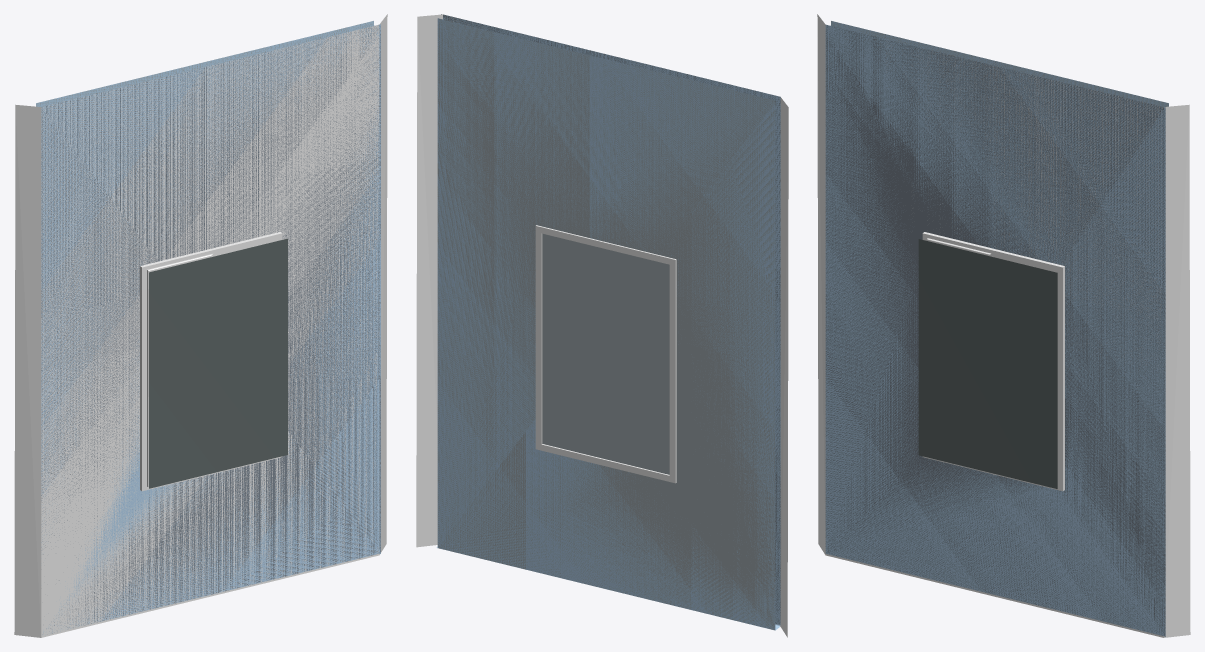
File: si_res_body_window.dae
3 renders of one model, left to right at view 1: azimuth 30°, elevation 25°; view 2: azimuth 150°, elevation 25°; view 3: azimuth 330°, elevation 25°, orthographic.
Visible parts, largest first — view 1: Colmesh-1, si_res_body_window_a10, si_res_body_window_a400, si_res_body_window_a60; view 2: si_res_body_window_a10, si_res_body_window_a400, Colmesh-1, si_res_body_window_a60; view 3: si_res_body_window_a10, si_res_body_window_a400, Colmesh-1, si_res_body_window_a60.
Boxes of the visible parts, left/top/right/bottom form: Colmesh-1: left=14, top=14, right=387, bottom=637; si_res_body_window_a10: left=36, top=21, right=380, bottom=633; si_res_body_window_a400: left=36, top=21, right=380, bottom=634; si_res_body_window_a60: left=140, top=232, right=282, bottom=491; si_res_body_window_a10: left=437, top=14, right=780, bottom=629; si_res_body_window_a400: left=436, top=14, right=780, bottom=630; Colmesh-1: left=416, top=14, right=788, bottom=637; si_res_body_window_a60: left=536, top=225, right=676, bottom=482; si_res_body_window_a10: left=825, top=21, right=1168, bottom=636; si_res_body_window_a400: left=825, top=21, right=1168, bottom=636; Colmesh-1: left=817, top=14, right=1190, bottom=637; si_res_body_window_a60: left=922, top=232, right=1064, bottom=491.
Bounding box in the file's own units: 2.2 × 0.1764 × 3.
